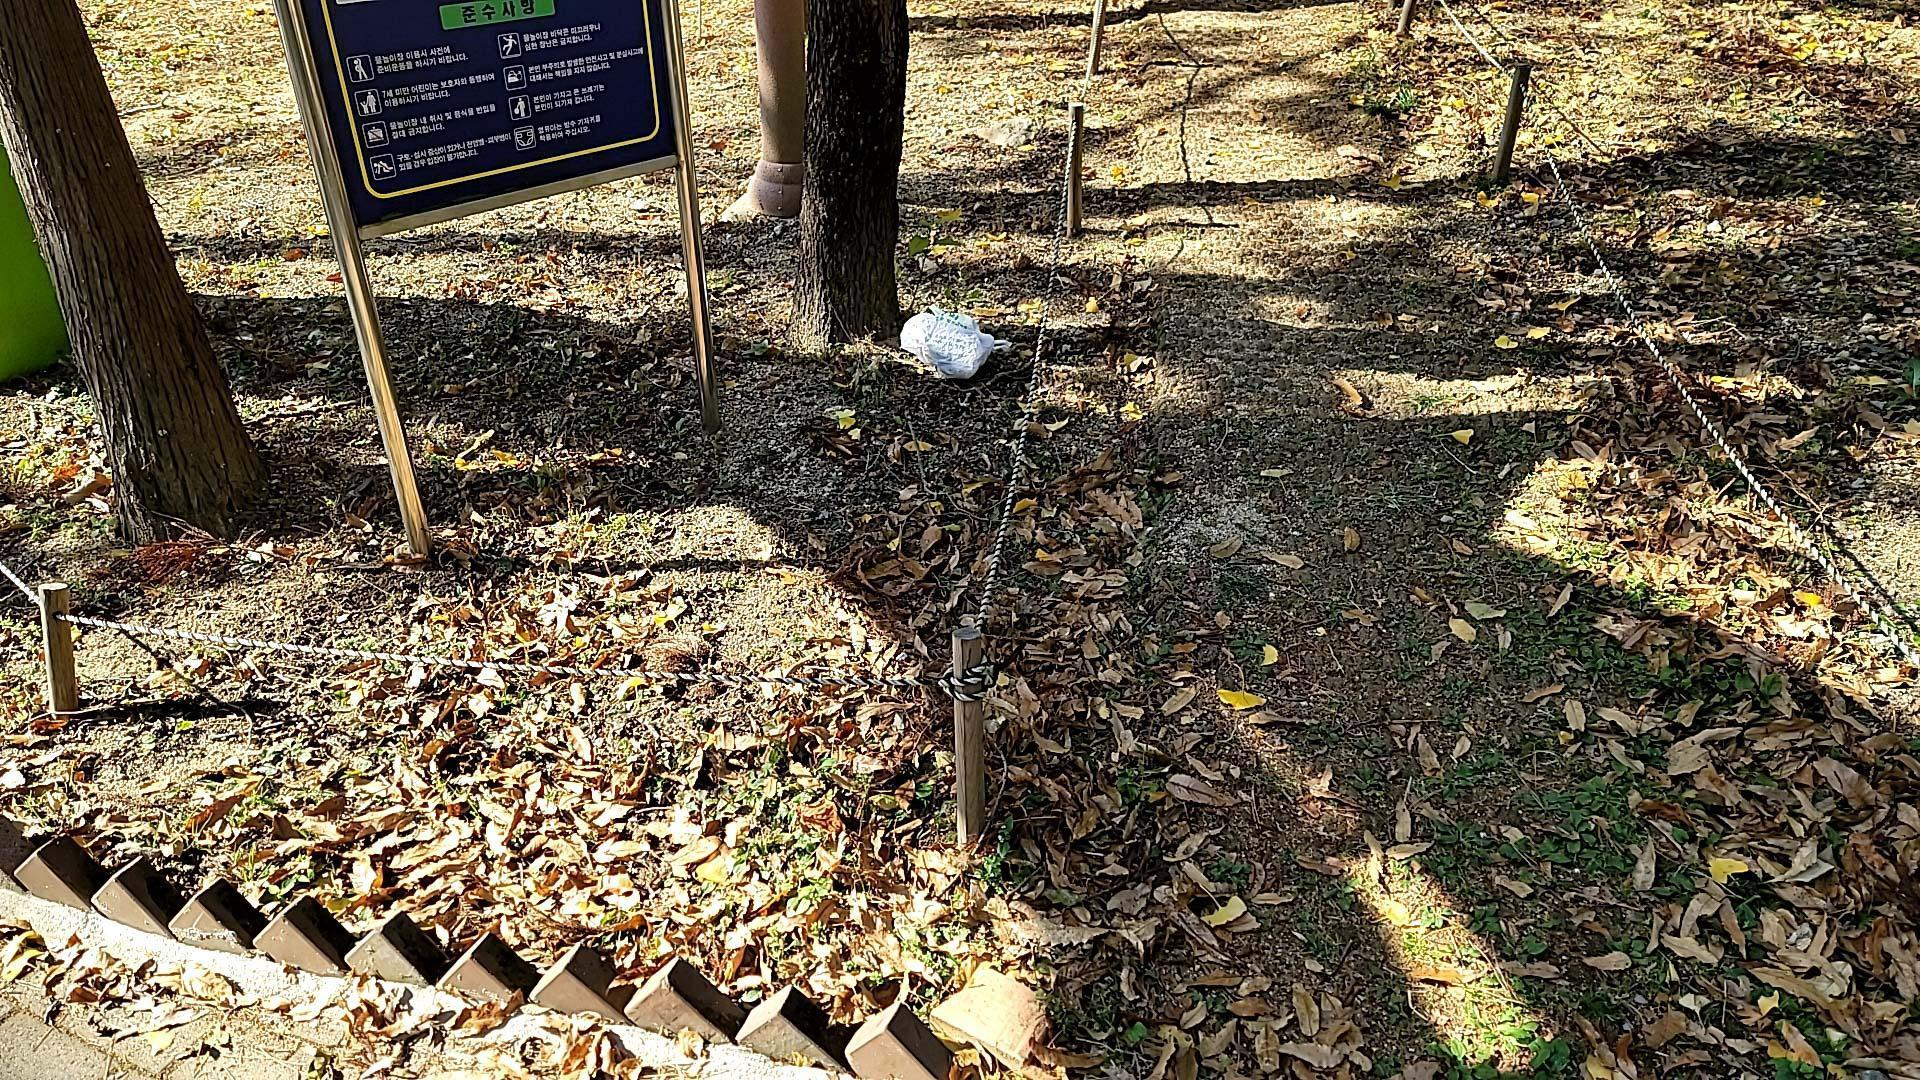white_bag: (894, 299, 1011, 384)
